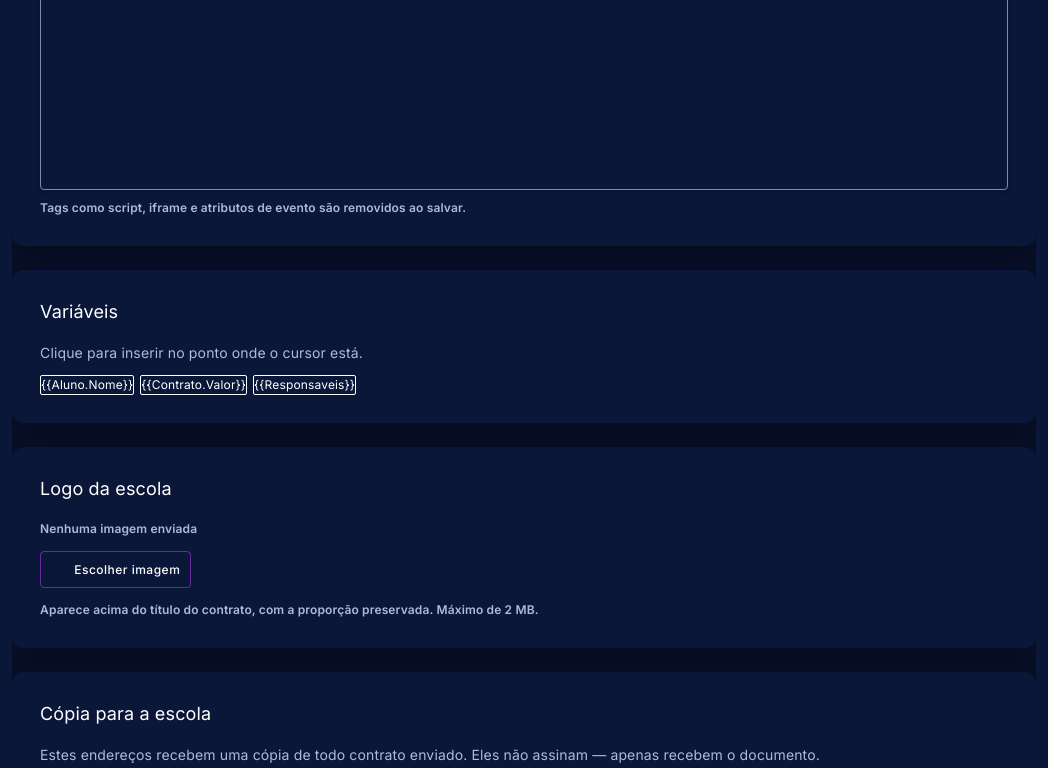
Test: ContractTemplatePage › inserts a variable at the cursor
(page scrolled)
Click the button "{{contrato.valor}}": (194, 384) top-left (140, 374), bottom-right (247, 394)
(page scrolled)
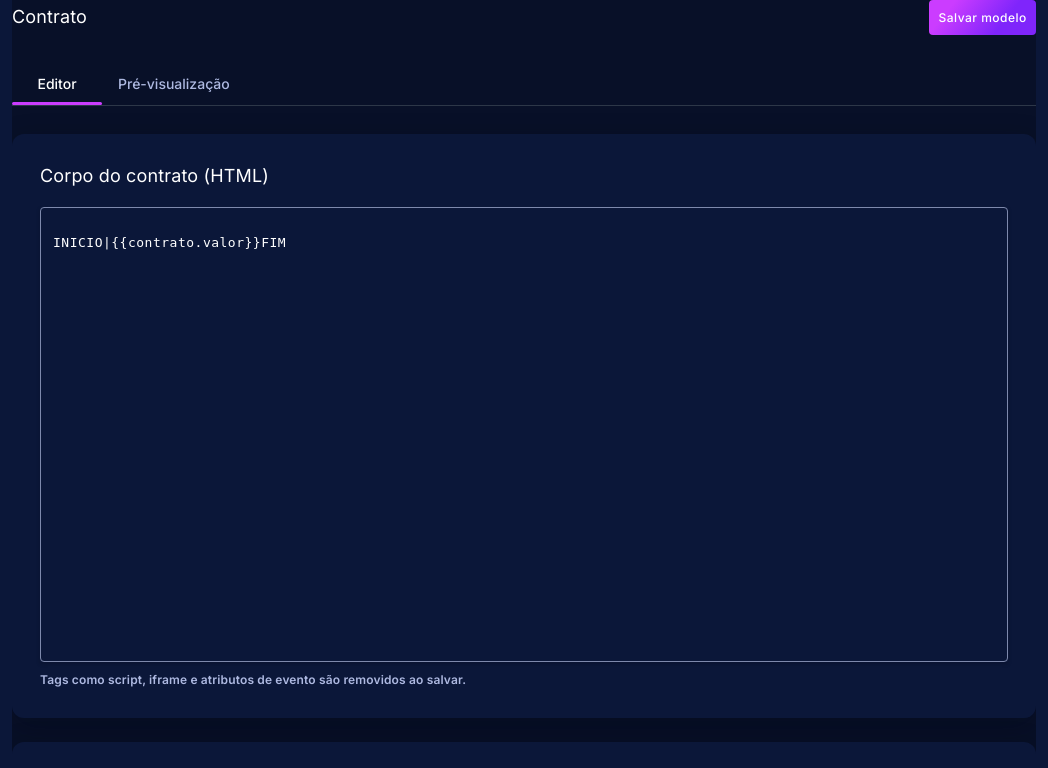
Expected: the text box named "corpo do contrato em html" holds "INICIO|{{contrato.valor}}FIM", top-left (53, 233), bottom-right (995, 653)
